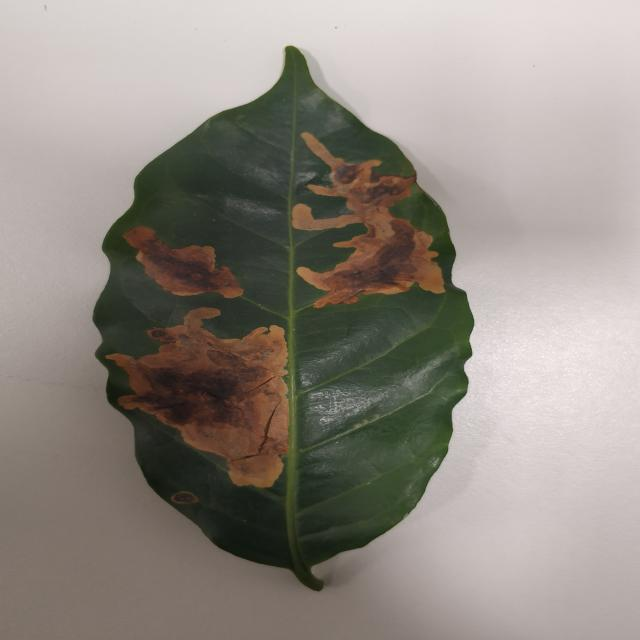Plaga-Minador: (92, 46, 475, 593)
